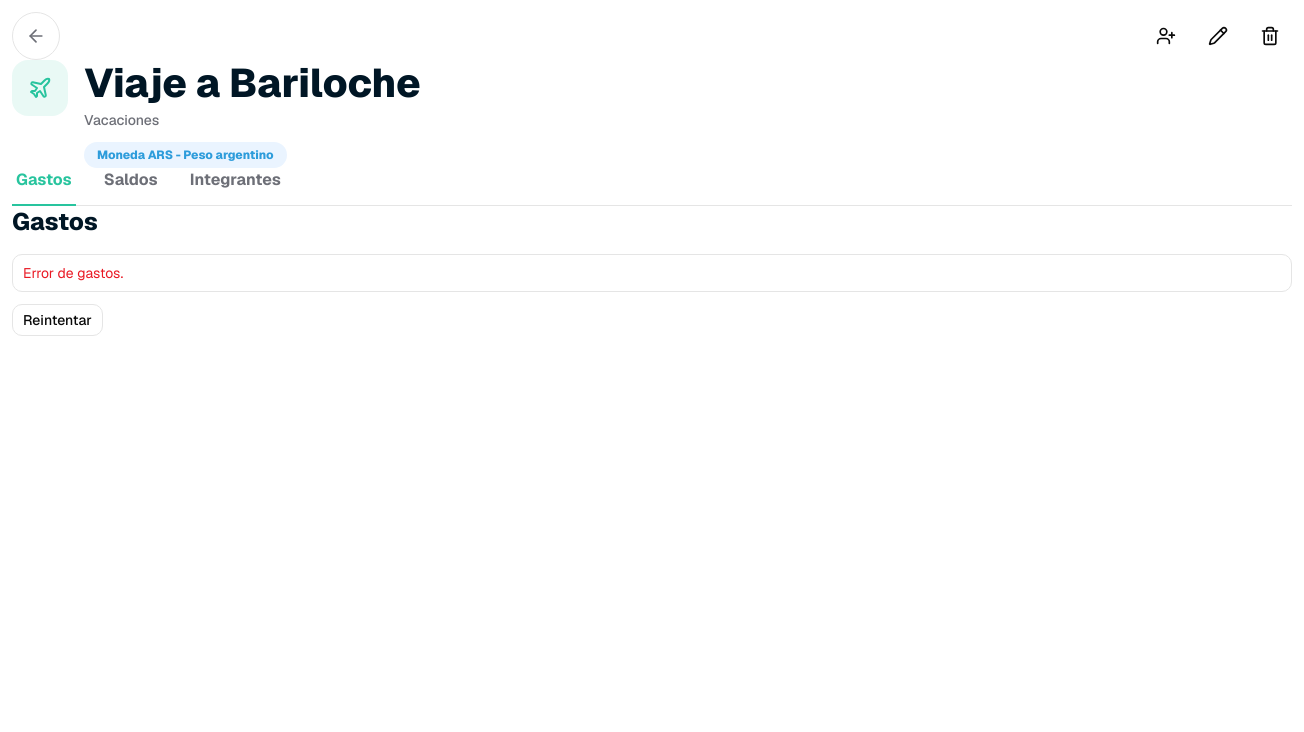
EventDetailView › muestra pagos sugeridos aunque falle la consulta compartida de gastos
Expected: the text "Error de gastos." is shown, [23,264,123,282]
Click the tab "Saldos" at (131, 187), box [100,168,162,206]
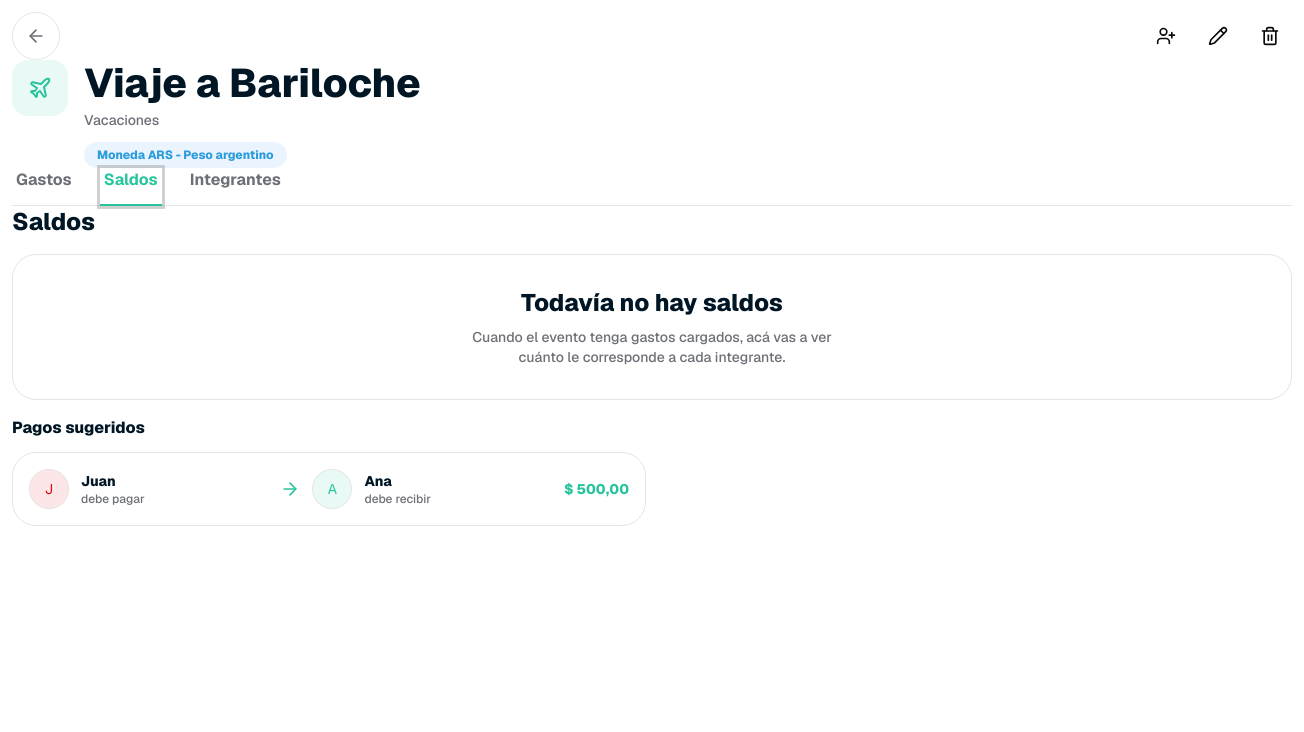
Result: the element named "Juan le paga a Ana" is shown at [12,452,646,526]
